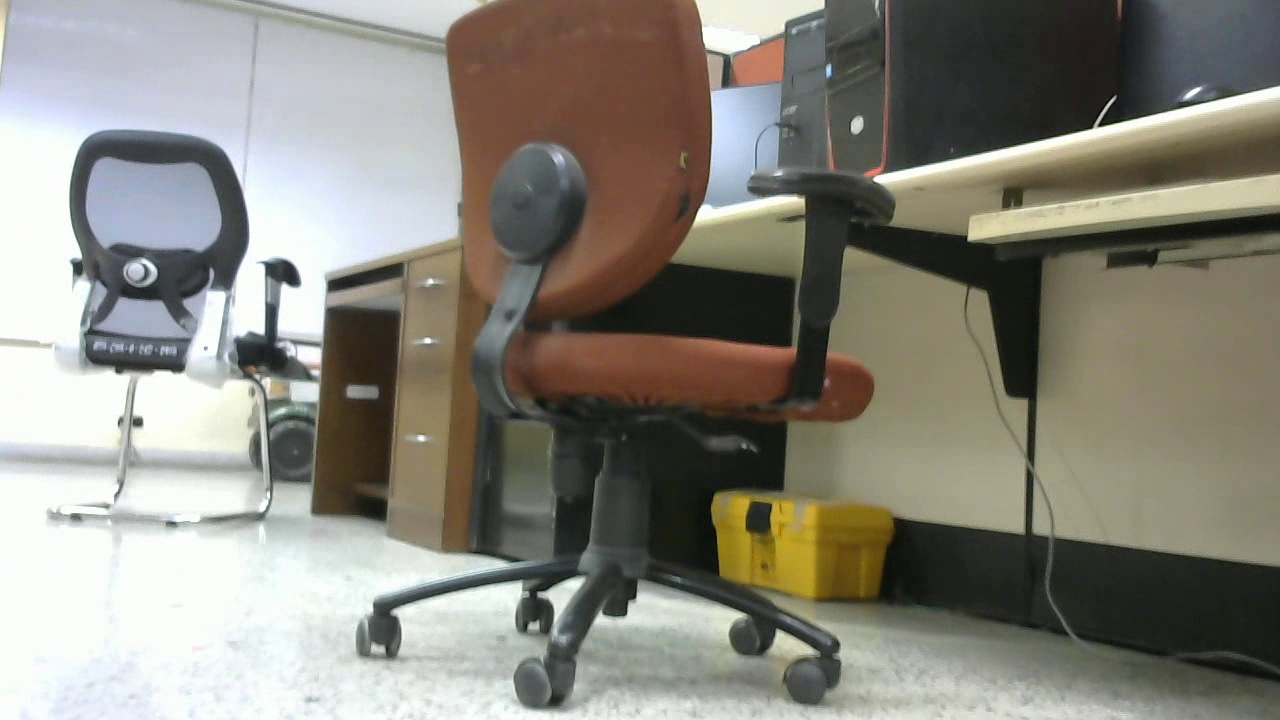chair: (351, 6, 899, 718), (25, 117, 321, 539)
